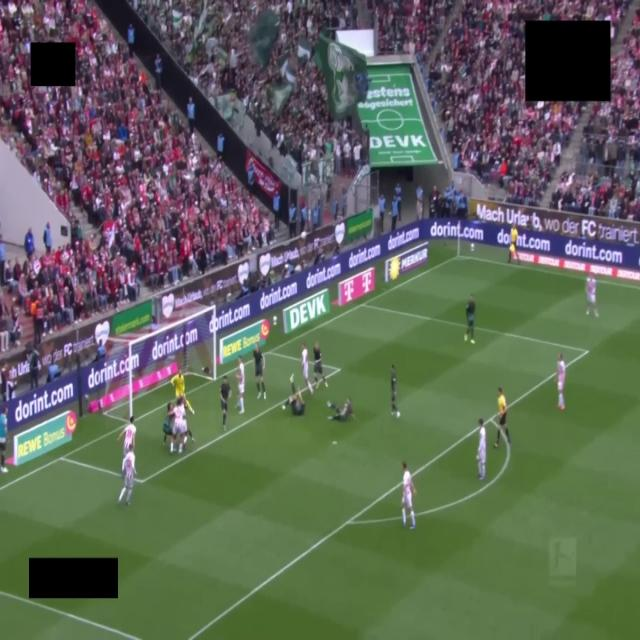player: (171, 369, 194, 414), (118, 448, 136, 505), (170, 398, 187, 453), (402, 463, 416, 529), (283, 376, 305, 415), (118, 416, 136, 455), (253, 344, 265, 399), (327, 398, 355, 421), (313, 343, 327, 388), (220, 376, 231, 431), (585, 275, 599, 317), (302, 343, 313, 394), (477, 418, 486, 480), (236, 357, 245, 414), (465, 295, 475, 343), (557, 354, 565, 410), (163, 403, 173, 445), (391, 365, 399, 417), (181, 395, 190, 410)
referee: (494, 388, 510, 447)
